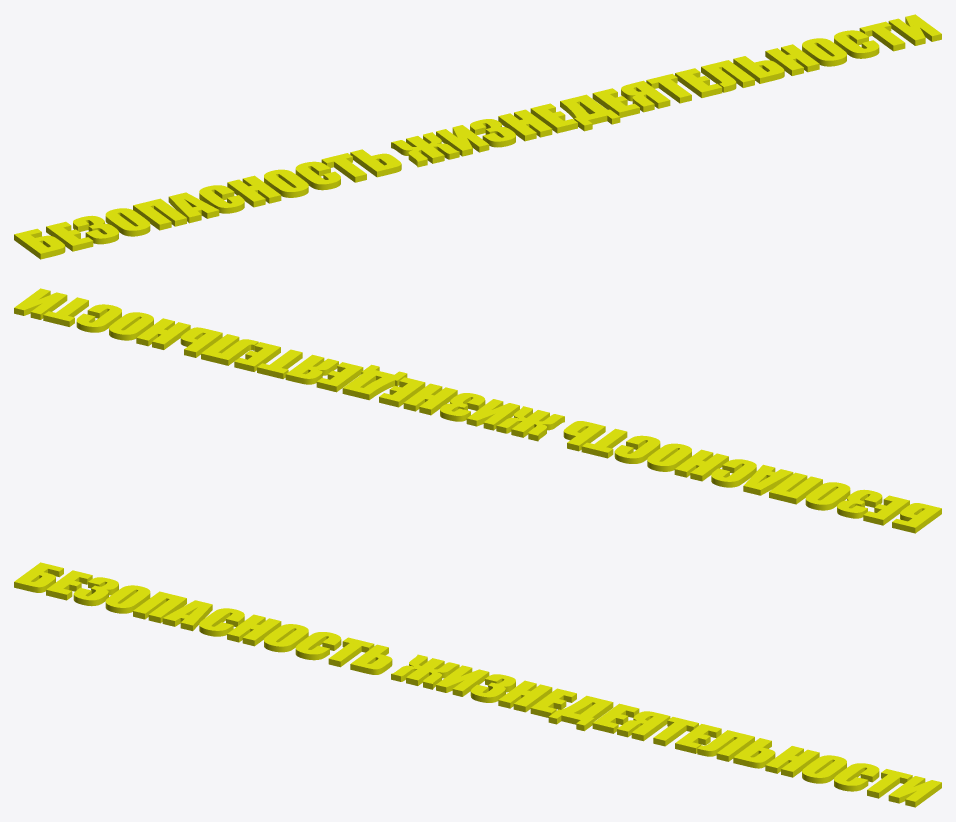
3 renders of one model, top to bottom at view 1: azimuth 30°, elevation 25°; view 2: azimuth 150°, elevation 25°; view 3: azimuth 330°, elevation 25°, orthographic.
Visible parts, largest first — view 1: БЕЗОПАСНОСТЬ ЖИЗ; view 2: БЕЗОПАСНОСТЬ ЖИЗ; view 3: БЕЗОПАСНОСТЬ ЖИЗ.
Boxes of the visible parts, x1=… form: БЕЗОПАСНОСТЬ ЖИЗ: x1=14, y1=14, x2=941, y2=259; БЕЗОПАСНОСТЬ ЖИЗ: x1=14, y1=288, x2=941, y2=533; БЕЗОПАСНОСТЬ ЖИЗ: x1=14, y1=562, x2=941, y2=807.
Size of the model in its own units: 4.9 by 0.03 by 0.2983.
1 material, 1 textured.
